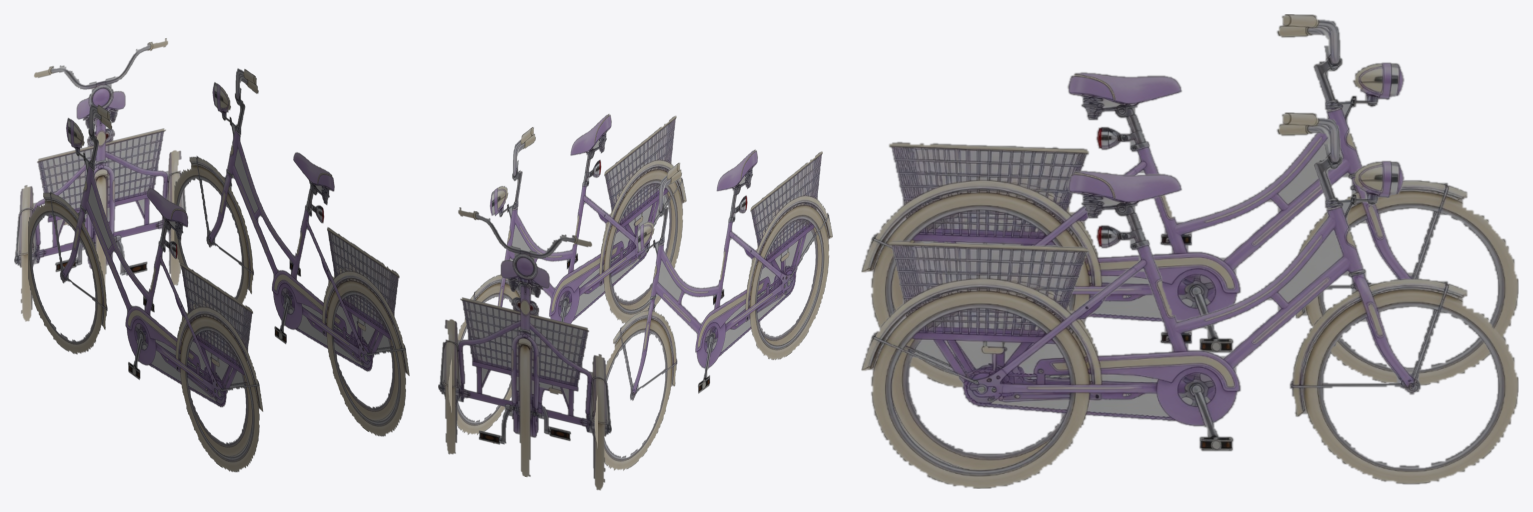
Rendered from adult_tricycle.glb.
The picture shows the model from 3 angles, left to right: view 1: azimuth 30°, elevation 25°; view 2: azimuth 150°, elevation 25°; view 3: azimuth 270°, elevation 25°; orthographic projection. The views are drawn at different scales.
Parts seen in each view (by area): view 1: adult_tricycle; view 2: adult_tricycle; view 3: adult_tricycle.
Part boxes in pixels (x1=…): adult_tricycle: x1=14, y1=38, x2=409, y2=472; adult_tricycle: x1=438, y1=114, x2=832, y2=490; adult_tricycle: x1=861, y1=14, x2=1518, y2=488.
Bounding box in the file's own units: 0.7981 × 1.2 × 1.9.
Materials: 1 (1 with a texture image).
